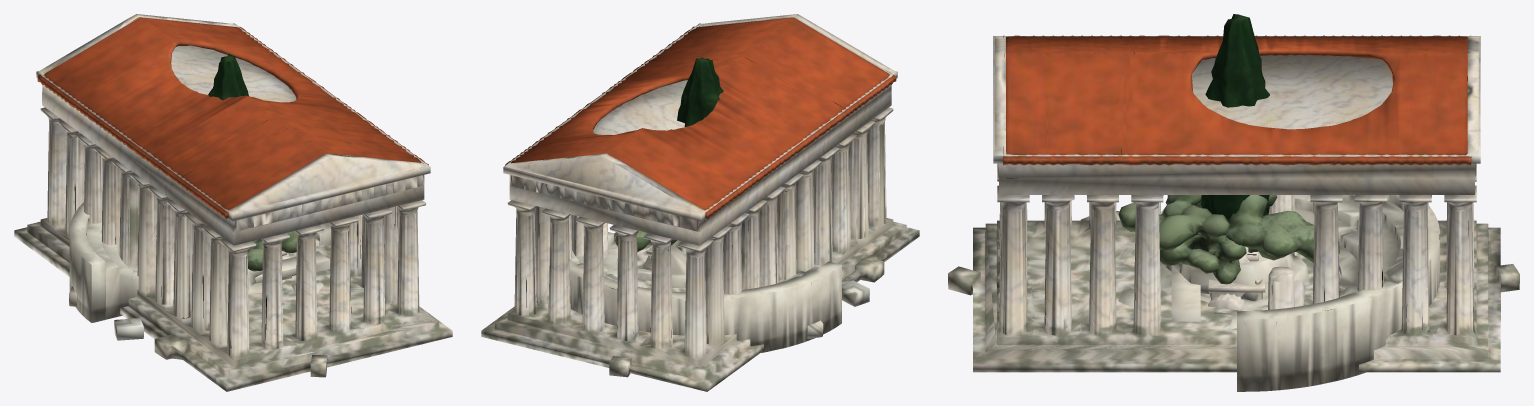
Rendered from classical_decor_acropolis.glb.
The picture shows the model from 3 angles, left to right: view 1: azimuth 30°, elevation 25°; view 2: azimuth 150°, elevation 25°; view 3: azimuth 270°, elevation 25°; orthographic projection. The views are drawn at different scales.
Visible parts, largest first — view 1: Temple, Theatre, Cypress_A, Rock_C, Olive_A; view 2: Temple, Theatre, Cypress_A, Rock_C; view 3: Temple, Theatre, Olive_A, Cypress_A, Rock_C, Olive_B, Lion.
Boxes of the visible parts, x1,y1,x2,y2 form: Temple: (14,14,452,391); Theatre: (69,202,330,322); Cypress_A: (208,54,248,100); Rock_C: (248,247,323,294); Olive_A: (156,236,262,271); Temple: (481,14,919,391); Theatre: (569,232,841,352); Cypress_A: (677,57,723,126); Rock_C: (638,240,686,287); Temple: (948,35,1519,372); Theatre: (1171,195,1439,391); Olive_A: (1118,195,1339,262); Cypress_A: (1201,14,1269,220); Rock_C: (1118,247,1308,329); Olive_B: (1160,235,1246,284); Lion: (1208,255,1265,300).
Bounding box in the file's own units: 4.43 × 3.61 × 6.19.
2 materials, 1 textured.
